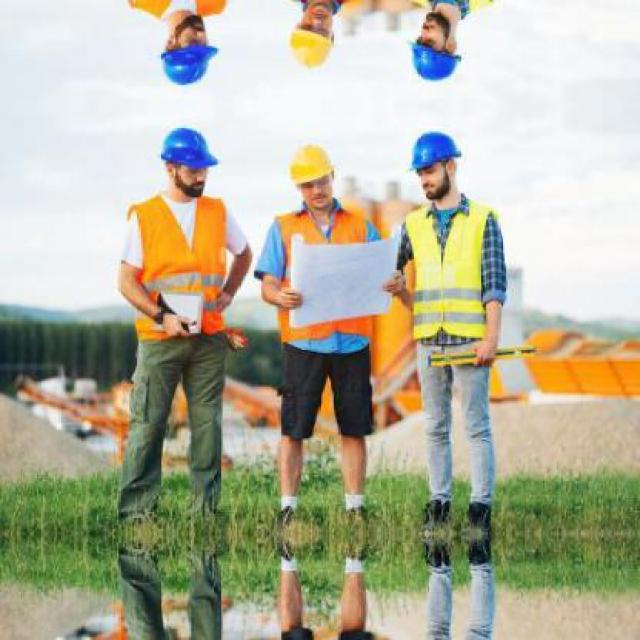Reflective-Jacket: (117, 190, 237, 348), (400, 198, 508, 362), (263, 202, 382, 349)
Safety-Helmet: (150, 119, 224, 177), (278, 136, 342, 191), (402, 34, 465, 86), (398, 125, 464, 174), (154, 40, 221, 88), (287, 27, 336, 72)
